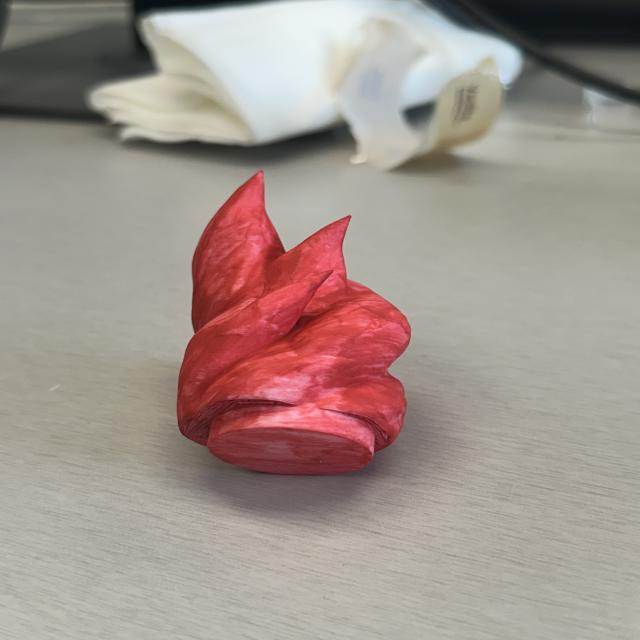fire: (177, 169, 411, 478)
